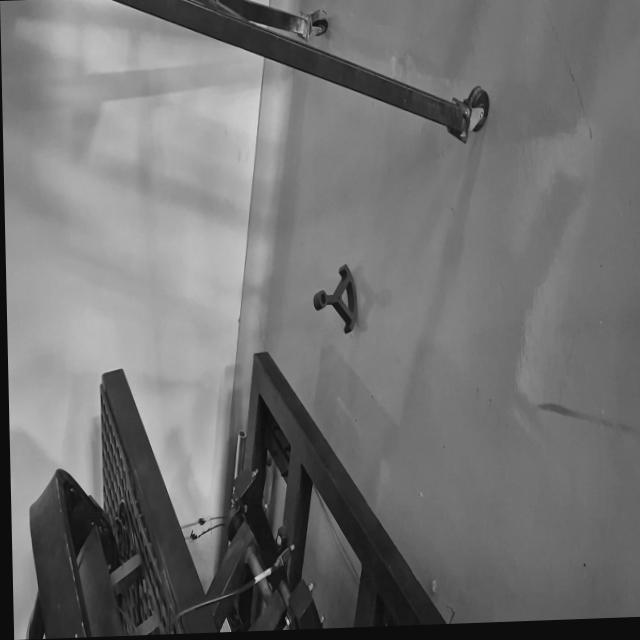haptic: (312, 261, 359, 335)
